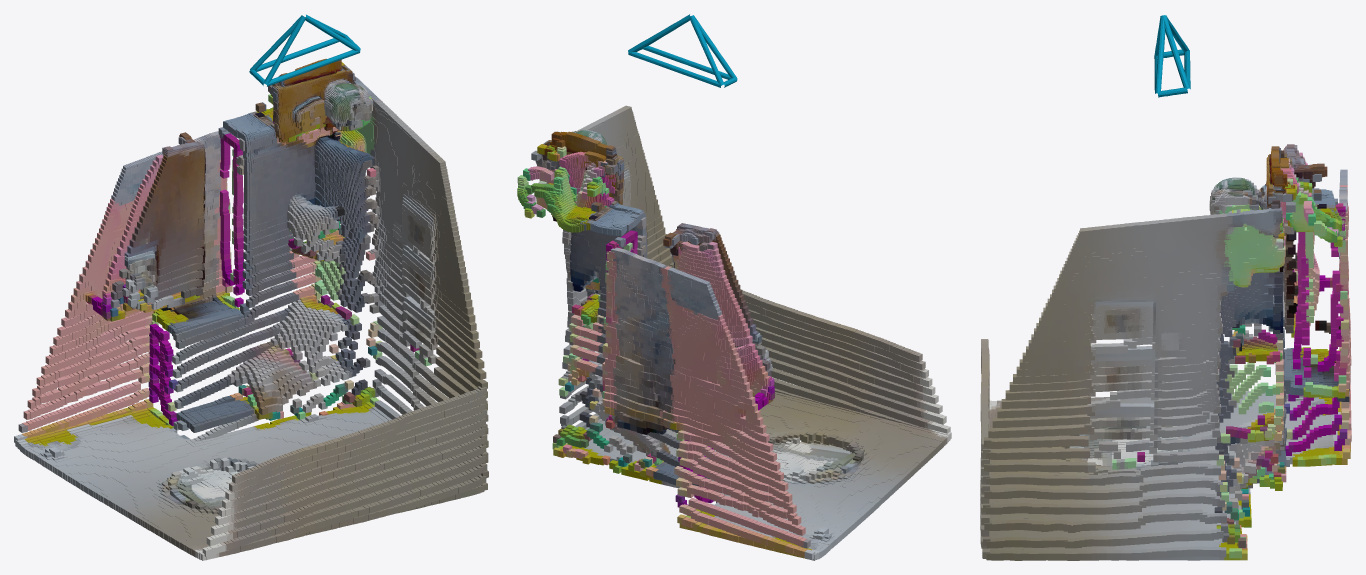
The picture shows the model from 3 angles, left to right: view 1: azimuth 30°, elevation 25°; view 2: azimuth 150°, elevation 25°; view 3: azimuth 270°, elevation 25°; orthographic projection. The views are drawn at different scales.
Bounding box in the file's own units: 2.65 × 3.66 × 2.46.
